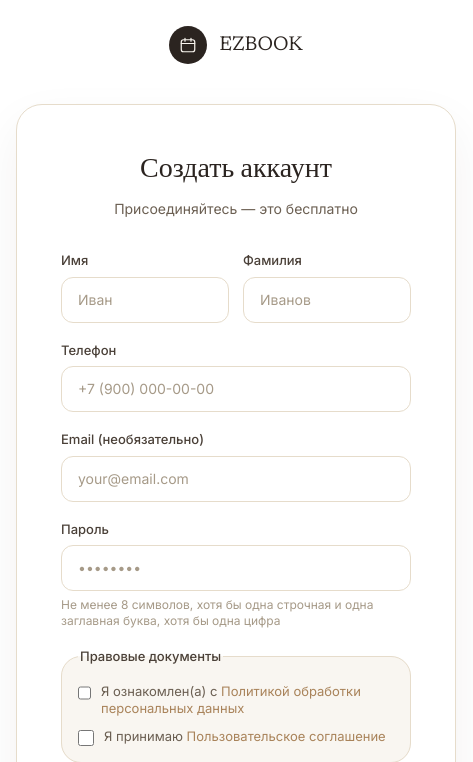
Test case: RegisterPage › keeps submit disabled until BOTH the privacy acknowledgement and the terms acceptance are checked
Step 1. Click the checkbox labelled "Я ознакомлен(а) с Политикой обработки персональных данных" → [84, 692], box [78,684,91,700]
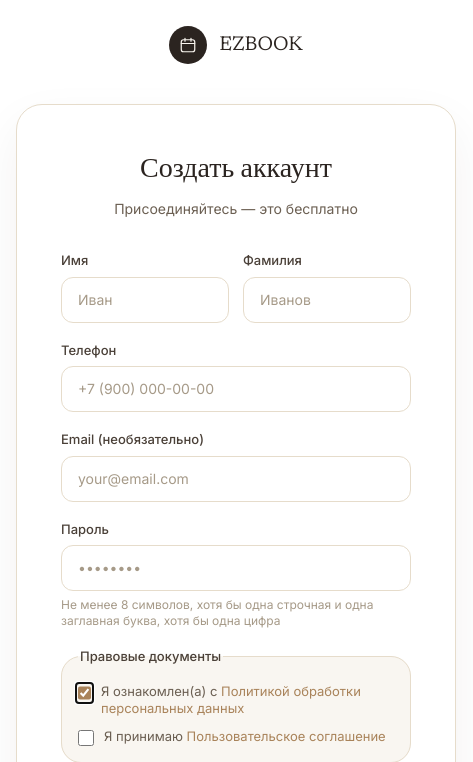
Step 2. Click the checkbox labelled "Я принимаю Пользовательское соглашение" → [86, 738], box [78,730,94,746]
(page scrolled)
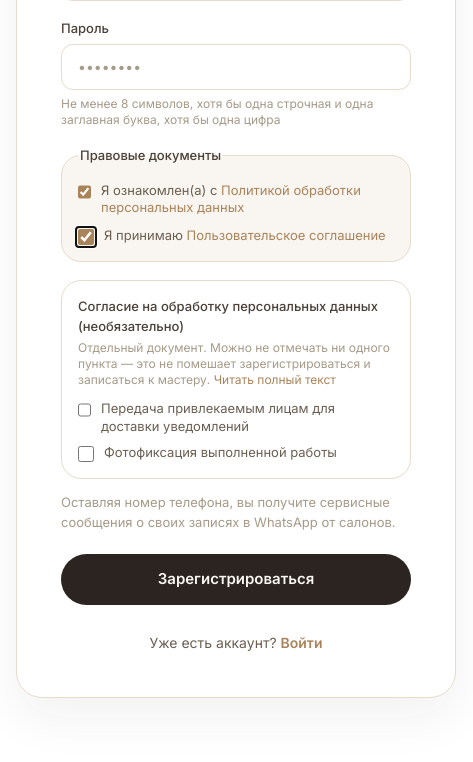
Result: the button "Зарегистрироваться" is enabled at [61,554,411,604]
